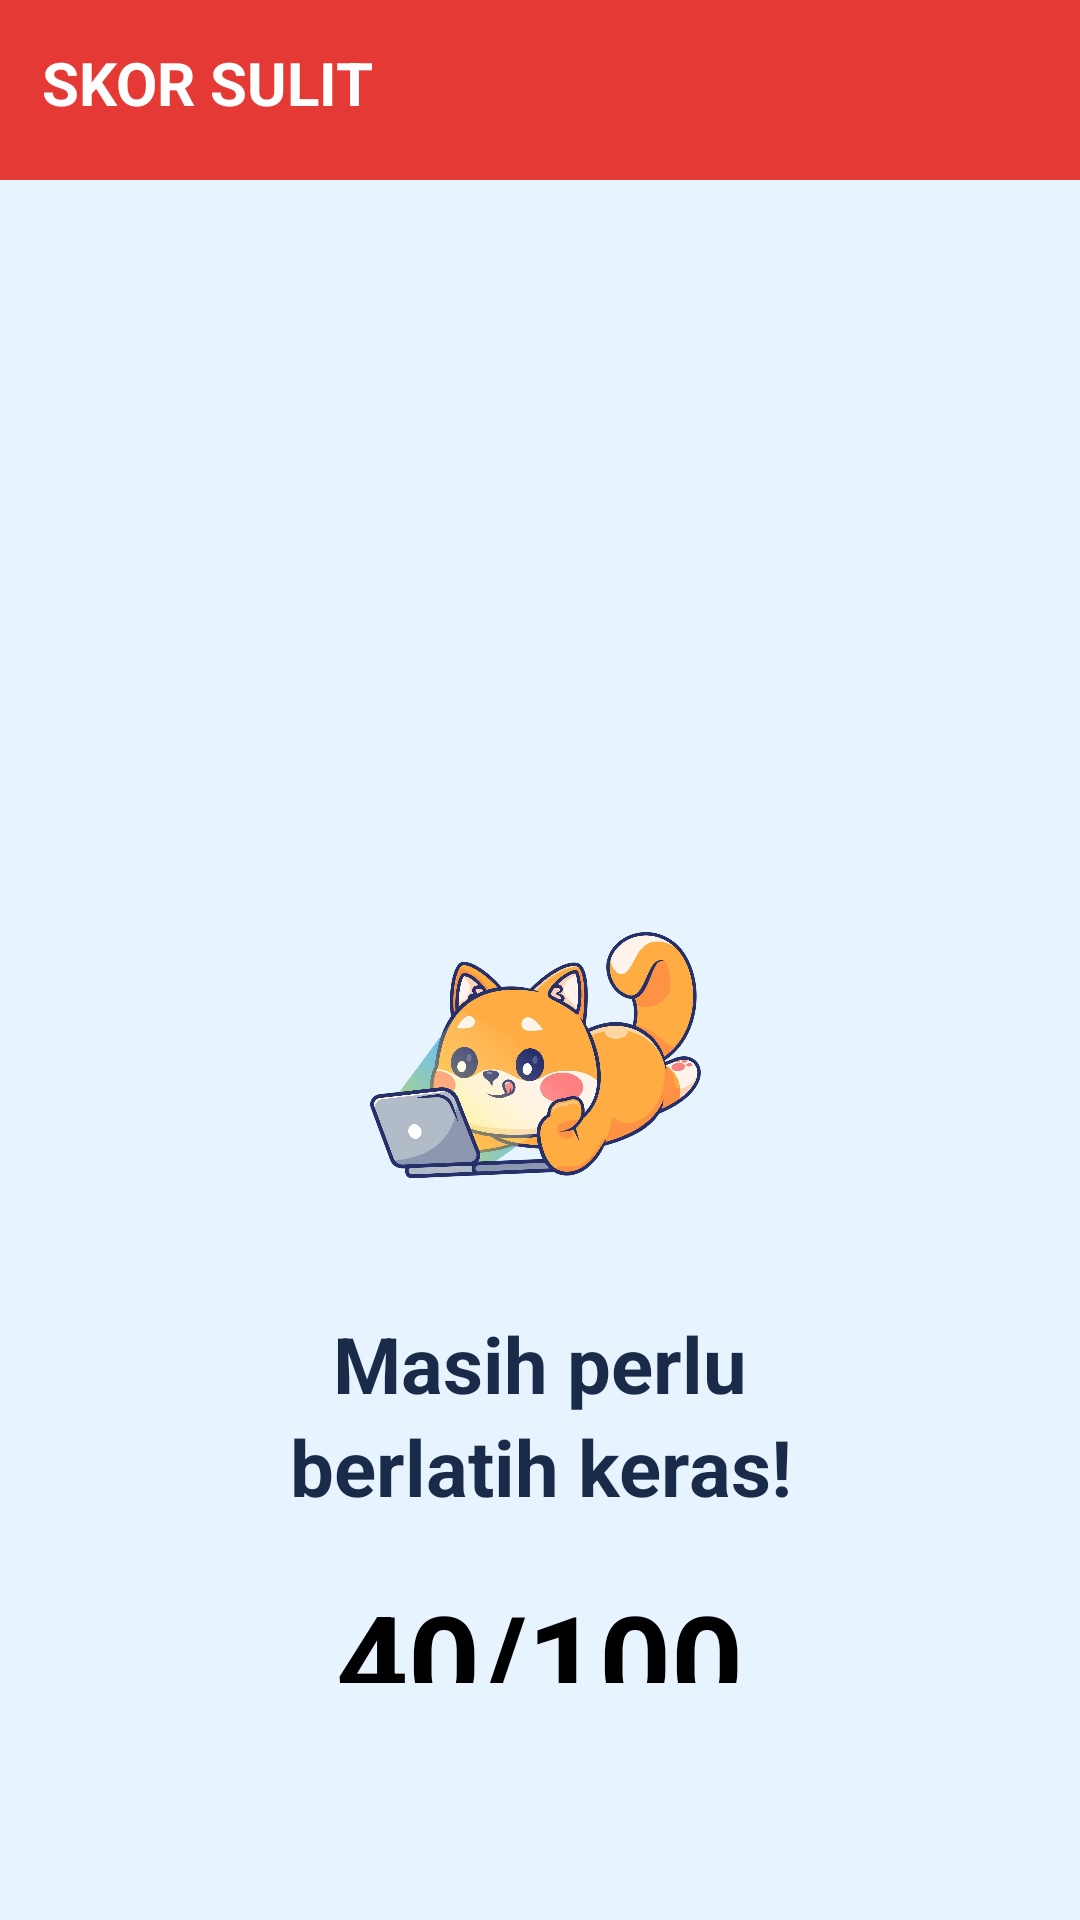

Icon click points for this 1080w x 1920h phone screenshot, format [x,y]:
maskot: [535,1055]
